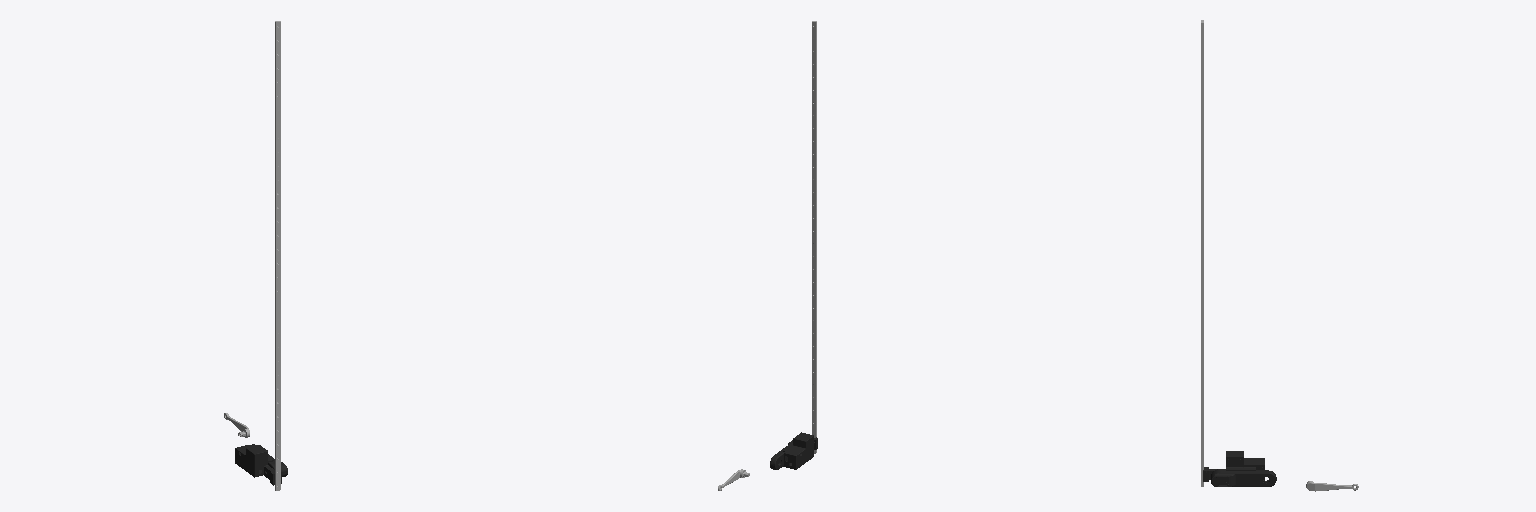
The robot description file, URDF, robot "softleg_cart":
<?xml version="1.0" ?>
<!-- =================================================================================== -->
<!-- |    This document was autogenerated by xacro from ../robot/softleg_cart.urdf.xacro | -->
<!-- |    EDITING THIS FILE BY HAND IS NOT RECOMMENDED                                 | -->
<!-- =================================================================================== -->
<robot name="softleg_cart">
  <!-- INERTIA MATRICES FOR LINKS (wrt frames in urdf inertial) -->
  <material name="SoftLeg/DarkGrey">
    <color rgba="0.3 0.3 0.3 1.0"/>
  </material>
  <material name="SoftLeg/LightGrey">
    <color rgba="0.8 0.8 0.8 1.0"/>
  </material>
  <material name="SoftLeg/Black">
    <color rgba="0 0 0 1.0"/>
  </material>
  <material name="SoftLeg/Silver">
    <color rgba="1.0 1.0 1.0 1.0"/>
  </material>
  <material name="SoftLeg/Grey">
    <color rgba="0.7 0.7 0.7 1.0"/>
  </material>
  <!-- WORLD -->
  <link name="world">
</link>
  <!-- 0) Cart link - fixed to parent. -->
  <joint name="world_softleg_1_fixed_joint" type="fixed">
    <origin rpy="0 0 0" xyz="0 0 0"/>
    <parent link="world"/>
    <child link="softleg_1_cart_link"/>
  </joint>
  <link name="softleg_1_cart_link">
    <inertial>
      <origin xyz="0 0 0"/>
      <mass value="1e-05"/>
      <inertia ixx="1.0000000000000001e-11" ixy="0.0" ixz="0.0" iyy="1.0000000000000001e-11" iyz="0.0" izz="1.0000000000000001e-11"/>
    </inertial>
    <visual>
      <origin rpy="0 0 3.141592653589793" xyz="0 0 0"/>
      <geometry>
        <mesh filename="package://example-robot-data/robots/softleg_description/meshes/visual/cart.dae" scale=" .001 .001 .001"/>
      </geometry>
      <material name="SoftLeg/Grey"/>
    </visual>
    <collision>
      <origin rpy="0 0 0" xyz="0.01 0 0"/>
      <geometry>
        <box size="0.03 0.029 0.008"/>
      </geometry>
    </collision>
  </link>
  <!-- 1) Base link - moves along cart -->
  <joint name="softleg_1_cart_joint" type="prismatic">
    <origin rpy="1.5707963267948966 0.0 1.5707963267948966" xyz="0 -0.01 0"/>
    <axis xyz="0 1 0"/>
    <limit effort="100" lower="0" upper="5" velocity="100"/>
    <dynamics damping="0.0001" friction="0.0001"/>
    <parent link="softleg_1_cart_link"/>
    <child link="softleg_1_base_link"/>
  </joint>
  <link name="softleg_1_base_link">
    <inertial>
      <mass value="0.97245523"/>
      <origin rpy="0 0 0" xyz="0.0356 -0.0011 -0.0078"/>
      <inertia ixx="0.0016984399" ixy="-0.00098390475" ixz="-0.0013053791" iyy="0.020148637999999996" iyz="0.00015383174" izz="0.019764512999999997"/>
    </inertial>
    <visual>
      <origin rpy="0 0 0" xyz="0 0 0"/>
      <geometry>
        <mesh filename="package://example-robot-data/robots/softleg_description/meshes/visual/base.dae" scale=" .001 .001 .001"/>
      </geometry>
      <!-- <material name="SoftLeg/Grey"/> -->
      <material name="darkgray">
        <color rgba=".2 .2 .2 1"/>
      </material>
    </visual>
    <collision>
      <origin rpy="0 0 0" xyz="0.01 0 0"/>
      <geometry>
        <box size="0.03 0.029 0.008"/>
      </geometry>
    </collision>
    <collision>
      <origin rpy="0 0.3 0" xyz="0.0365 0 -0.00375"/>
      <geometry>
        <box size="0.0275 0.025 0.008"/>
      </geometry>
    </collision>
    <collision>
      <origin rpy="0 0.75 0" xyz="0.05525 0 -0.0142"/>
      <geometry>
        <box size="0.021 0.021 0.009"/>
      </geometry>
    </collision>
    <collision>
      <origin rpy="0 1.57 0" xyz="0.0605 0 -0.025"/>
      <geometry>
        <cylinder length="0.0125" radius="0.0075"/>
      </geometry>
    </collision>
  </link>
  <!-- 2) Thigh link - rotates w.r.t base -->
  <joint name="softleg_1_hip_joint" type="revolute">
    <origin rpy="1.5707963267948966 0 0" xyz="0.255 0 0.07"/>
    <axis xyz="0 1 0"/>
    <limit effort="100" lower="-3.141592653589793" upper="3.141592653589793" velocity="100"/>
    <dynamics damping="0.0001" friction="0.0001"/>
    <parent link="softleg_1_base_link"/>
    <child link="softleg_1_thigh_link"/>
  </joint>
  <link name="softleg_1_thigh_link">
    <inertial>
      <mass value="0.43578906"/>
      <origin rpy="0 0 0" xyz="0.0356 -0.0011 -0.0078"/>
      <inertia ixx="0.00075026891" ixy="-0.0010576539999999999" ixz="7.1507533e-08" iyy="0.0045759812" iyz="3.2201256999999996e-07" izz="0.0051059889"/>
    </inertial>
    <visual>
      <origin rpy="0 0 0" xyz="0.073 0 0"/>
      <geometry>
        <mesh filename="package://example-robot-data/robots/softleg_description/meshes/visual/thigh.dae" scale=" .001 .001 .001"/>
      </geometry>
      <material name="SoftLeg/Grey"/>
    </visual>
    <collision>
      <origin rpy="0 0 0" xyz="0.01 0 0"/>
      <geometry>
        <box size="0.03 0.029 0.008"/>
      </geometry>
    </collision>
    <collision>
      <origin rpy="0 0.3 0" xyz="0.0365 0 -0.00375"/>
      <geometry>
        <box size="0.0275 0.025 0.008"/>
      </geometry>
    </collision>
    <collision>
      <origin rpy="0 0.75 0" xyz="0.05525 0 -0.0142"/>
      <geometry>
        <box size="0.021 0.021 0.009"/>
      </geometry>
    </collision>
    <collision>
      <origin rpy="0 1.57 0" xyz="0.0605 0 -0.025"/>
      <geometry>
        <cylinder length="0.0125" radius="0.0075"/>
      </geometry>
    </collision>
  </link>
  <!-- 3) Calf link - rotates w.r.t thigh -->
  <joint name="softleg_1_knee_joint" type="revolute">
    <origin rpy="1.5707963267948966 0 0" xyz="0.175 0.0275 0"/>
    <axis xyz="0 0 -1"/>
    <limit effort="100" lower="-3.141592653589793" upper="3.141592653589793" velocity="100"/>
    <dynamics damping="0.0001" friction="0.0001"/>
    <parent link="softleg_1_thigh_link"/>
    <child link="softleg_1_calf_link"/>
  </joint>
  <link name="softleg_1_calf_link">
    <inertial>
      <mass value="0.076217499"/>
      <origin rpy="0 0 0" xyz="0.0356 -0.0011 -0.0078"/>
      <inertia ixx="6.0006428999999995e-05" ixy="-0.011984835" ixz="3.6890095e-10" iyy="0.00047243319" iyz="1.2686112999999998e-10" izz="0.0005204986699999999"/>
    </inertial>
    <visual>
      <origin rpy="0 0 0" xyz="0 0 0"/>
      <geometry>
        <mesh filename="package://example-robot-data/robots/softleg_description/meshes/visual/calf.dae" scale=" .001 .001 .001"/>
      </geometry>
      <material name="SoftLeg/Grey"/>
    </visual>
    <collision>
      <origin rpy="0 0 0" xyz="0.01 0 0"/>
      <geometry>
        <box size="0.03 0.029 0.008"/>
      </geometry>
    </collision>
    <collision>
      <origin rpy="0 0.3 0" xyz="0.0365 0 -0.00375"/>
      <geometry>
        <box size="0.0275 0.025 0.008"/>
      </geometry>
    </collision>
    <collision>
      <origin rpy="0 0.75 0" xyz="0.05525 0 -0.0142"/>
      <geometry>
        <box size="0.021 0.021 0.009"/>
      </geometry>
    </collision>
    <collision>
      <origin rpy="0 1.57 0" xyz="0.0605 0 -0.025"/>
      <geometry>
        <cylinder length="0.0125" radius="0.0075"/>
      </geometry>
    </collision>
  </link>
  <!-- 4) Contact link - Fixed -->
  <joint name="softleg_1_contact_joint" type="fixed">
    <origin rpy="1.5707963267948966 0 0" xyz="0.185 0 -0.02"/>
    <parent link="softleg_1_calf_link"/>
    <child link="softleg_1_contact_link"/>
  </joint>
  <link name="softleg_1_contact_link">
    <inertial>
      <origin xyz="0 0 0"/>
      <mass value="1e-05"/>
      <inertia ixx="1.0000000000000001e-11" ixy="0.0" ixz="0.0" iyy="1.0000000000000001e-11" iyz="0.0" izz="1.0000000000000001e-11"/>
    </inertial>
  </link>
  <!-- Ros control (For future actuated case) -->
  <!-- <gazebo>
                <plugin name="gazebo_ros_control" filename="libgazebo_ros_control.so">
                    <robotNamespace>${name}</robotNamespace>
                </plugin>
            </gazebo> -->
  <!-- Custom simulation plugin -->
  <gazebo>
    <plugin filename="libsoftleg_gazebo_plugin.so" name="softleg_1_gazebo_sim">
      <robotNamespace>softleg_1</robotNamespace>
    </plugin>
  </gazebo>
  <!-- Provide joint feedback when simulating -->
  <gazebo>
    <plugin filename="libgazebo_ros_joint_state_publisher.so" name="joint_state_publisher">
      <robotNamespace>softleg_1</robotNamespace>
      <jointName>
                                softleg_1_cart_joint, softleg_1_hip_joint,
                                softleg_1_knee_joint
                                </jointName>
      <updateRate>100.0</updateRate>
      <alwaysOn>true</alwaysOn>
    </plugin>
  </gazebo>
  <!-- Leg Links -->
  <gazebo reference="softleg_1_cart_link">
    <gravity>true</gravity>
    <!-- <selfCollide>true</selfCollide> -->
    <material>Gazebo/Grey</material>
    <kp>1e15</kp>
    <kd>1e15</kd>
    <mu1>0.8</mu1>
    <mu2>0.8</mu2>
    <collision>
      <surface>
        <contact>
          <ode>
            <min_depth>0.01</min_depth>
            <max_vel>0.1</max_vel>
          </ode>
        </contact>
      </surface>
    </collision>
  </gazebo>
  <gazebo reference="softleg_1_base_link">
    <gravity>true</gravity>
    <!-- <selfCollide>true</selfCollide> -->
    <material>Gazebo/Grey</material>
    <kp>1e15</kp>
    <kd>1e15</kd>
    <mu1>0.8</mu1>
    <mu2>0.8</mu2>
    <collision>
      <surface>
        <contact>
          <ode>
            <min_depth>0.01</min_depth>
            <max_vel>0.1</max_vel>
          </ode>
        </contact>
      </surface>
    </collision>
  </gazebo>
  <gazebo reference="softleg_1_thigh_link">
    <gravity>true</gravity>
    <!-- <selfCollide>true</selfCollide> -->
    <material>Gazebo/Grey</material>
    <kp>1e15</kp>
    <kd>1e15</kd>
    <mu1>0.8</mu1>
    <mu2>0.8</mu2>
    <collision>
      <surface>
        <contact>
          <ode>
            <min_depth>0.01</min_depth>
            <max_vel>0.1</max_vel>
          </ode>
        </contact>
      </surface>
    </collision>
  </gazebo>
  <gazebo reference="softleg_1_calf_link">
    <gravity>true</gravity>
    <!-- <selfCollide>true</selfCollide> -->
    <material>Gazebo/Grey</material>
    <kp>1e15</kp>
    <kd>1e15</kd>
    <mu1>0.8</mu1>
    <mu2>0.8</mu2>
    <collision>
      <surface>
        <contact>
          <ode>
            <min_depth>0.01</min_depth>
            <max_vel>0.1</max_vel>
          </ode>
        </contact>
      </surface>
    </collision>
  </gazebo>
  <!-- No transmission are needed yet. -->
</robot>

--- Render facts (derived) ---
Views: 3 orthographic renders of the robot side by side, from view 1: azimuth 30°, elevation 25°; view 2: azimuth 150°, elevation 25°; view 3: azimuth 270°, elevation 25°.
Model softleg_cart with 6 links and 5 joints (2 revolute, 1 prismatic, 2 fixed), rooted at world, posed every joint at zero.
Visible links, largest first — view 1: softleg_1_cart_link, softleg_1_base_link; view 2: softleg_1_cart_link, softleg_1_base_link; view 3: softleg_1_base_link, softleg_1_cart_link.
Link boxes in pixels (box(x1,y1,x2,y2)): softleg_1_cart_link: box(275, 21, 280, 490); softleg_1_base_link: box(235, 444, 287, 485); softleg_1_cart_link: box(812, 21, 816, 453); softleg_1_base_link: box(770, 432, 817, 469); softleg_1_base_link: box(1203, 451, 1276, 486); softleg_1_cart_link: box(1201, 20, 1203, 486).
Size in the robot's own frame: 0.1734 by 0.6195 by 2.02 metres.
Meshes: 4 distinct files referenced, 3 mesh visuals loaded (3 Collada DAE); not drawn: 1 (reference not matched to a file when rendering).
